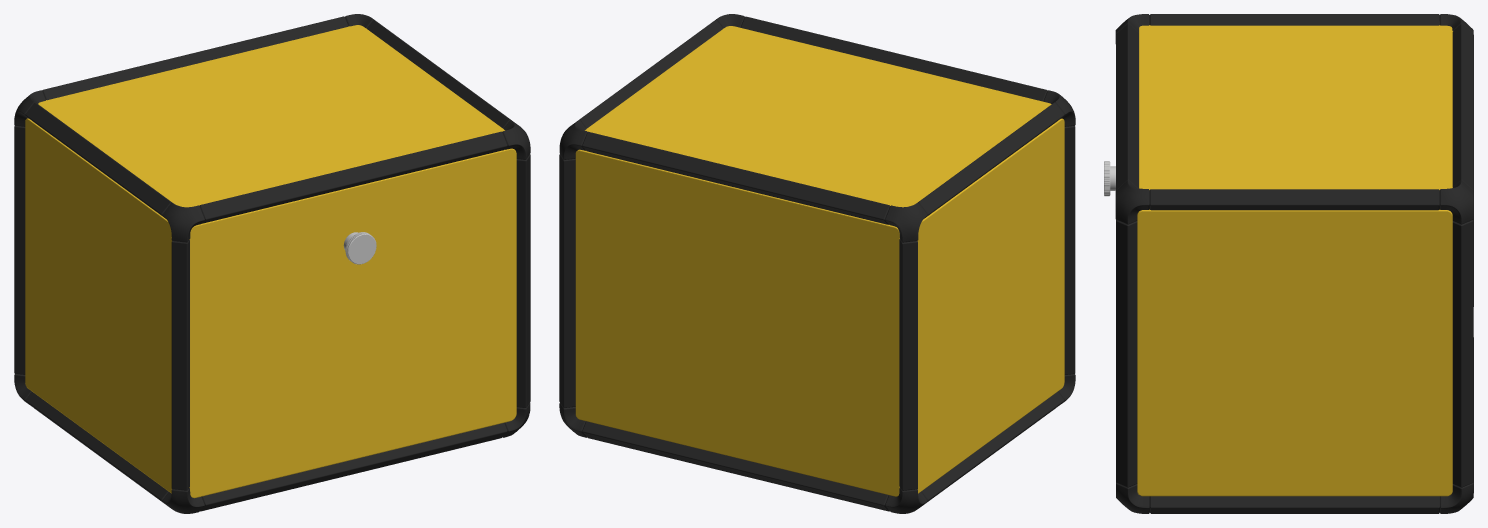
3 renders of one model, left to right at view 1: azimuth 30°, elevation 25°; view 2: azimuth 150°, elevation 25°; view 3: azimuth 270°, elevation 25°, orthographic. The views are drawn at different scales.
Parts seen in each view (by area): view 1: 420x329x330; view 2: 420x329x330; view 3: 420x329x330.
Part boxes in pixels (x1,y1,x2,y2): 420x329x330: (14,14,530,513); 420x329x330: (559,14,1075,513); 420x329x330: (1104,14,1473,513).
Bounding box in the file's own units: 0.4977 × 0.4065 × 0.4196.
